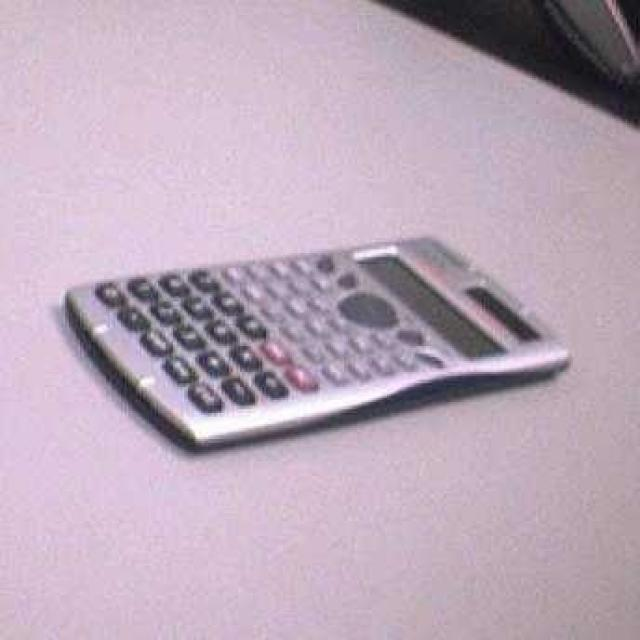Calculator: (65, 238, 567, 445)
